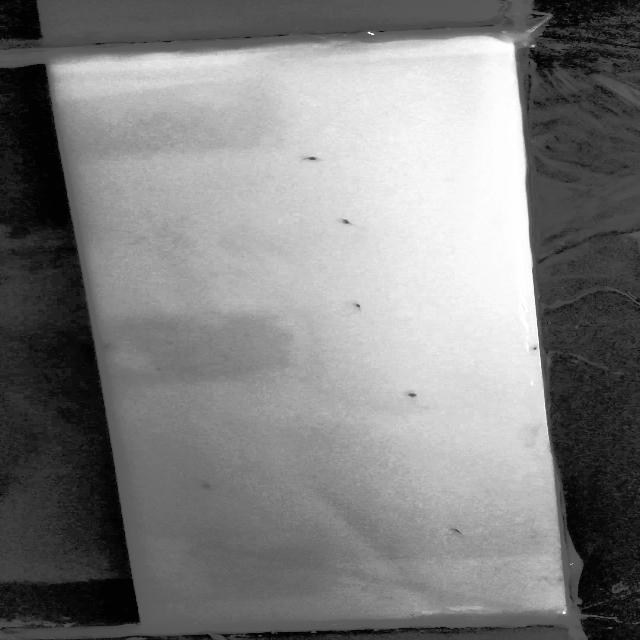shrimp: (184, 474, 232, 496), (324, 214, 375, 232), (341, 296, 374, 317), (294, 152, 330, 170), (440, 522, 475, 539), (396, 389, 428, 402), (96, 338, 115, 350)
